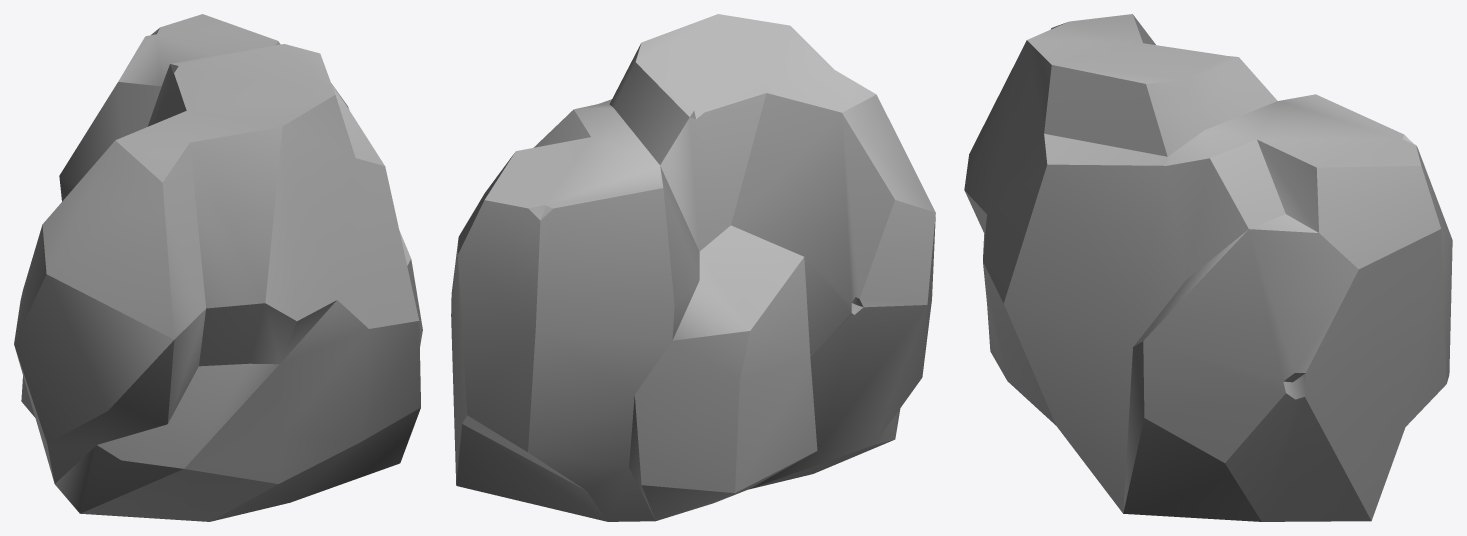
File: SK_Rock_009.FBX
3 views of the same model, side by side, from view 1: azimuth 30°, elevation 25°; view 2: azimuth 150°, elevation 25°; view 3: azimuth 270°, elevation 25° (orthographic). The views are drawn at different scales.
Parts seen in each view (by area): view 1: SK_Rock_009; view 2: SK_Rock_009; view 3: SK_Rock_009.
Boxes of the visible parts, x1,y1,x2,y2 form: SK_Rock_009: (14, 14, 422, 521); SK_Rock_009: (451, 14, 935, 521); SK_Rock_009: (964, 14, 1452, 521).
Bounding box in the file's own units: 152 × 141 × 155.
Materials: 1 (1 with a texture image).
